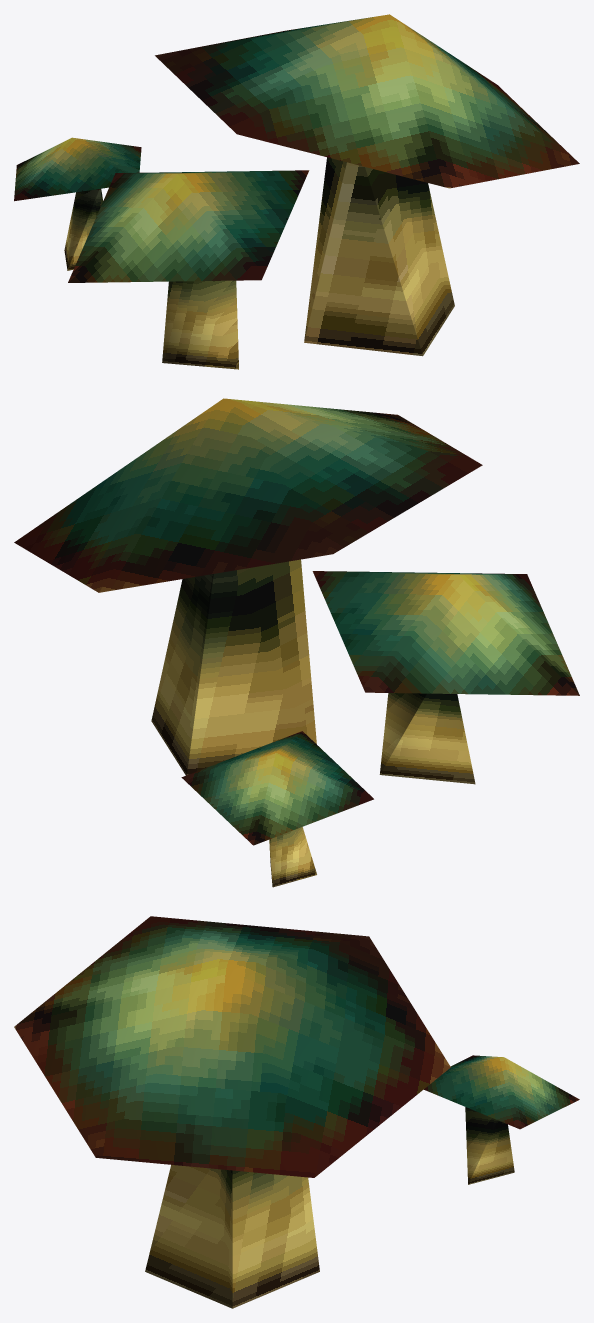
File: frst_fngi_mushroom_blue_group_l1.fbx
The picture shows the model from 3 angles, top to bottom: view 1: azimuth 30°, elevation 25°; view 2: azimuth 150°, elevation 25°; view 3: azimuth 270°, elevation 25°; orthographic projection. The views are drawn at different scales.
Parts seen in each view (by area): view 1: mesh_node; view 2: mesh_node; view 3: mesh_node.
Boxes of the visible parts, left/top/right/bottom form: mesh_node: left=14, top=14, right=579, bottom=369; mesh_node: left=14, top=398, right=579, bottom=887; mesh_node: left=14, top=916, right=579, bottom=1308.
Bounding box in the file's own units: 0.4411 × 0.2754 × 0.4575.
Materials: 1 (1 with a texture image).
